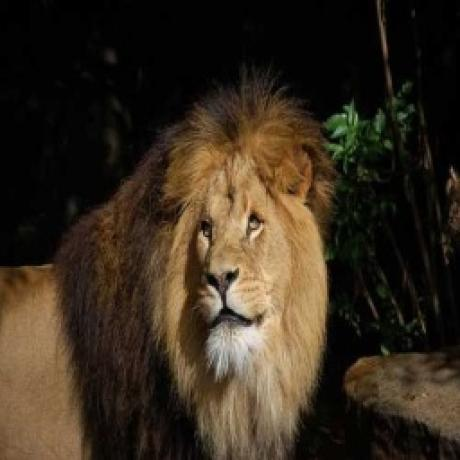Lion: (0, 69, 337, 460)
